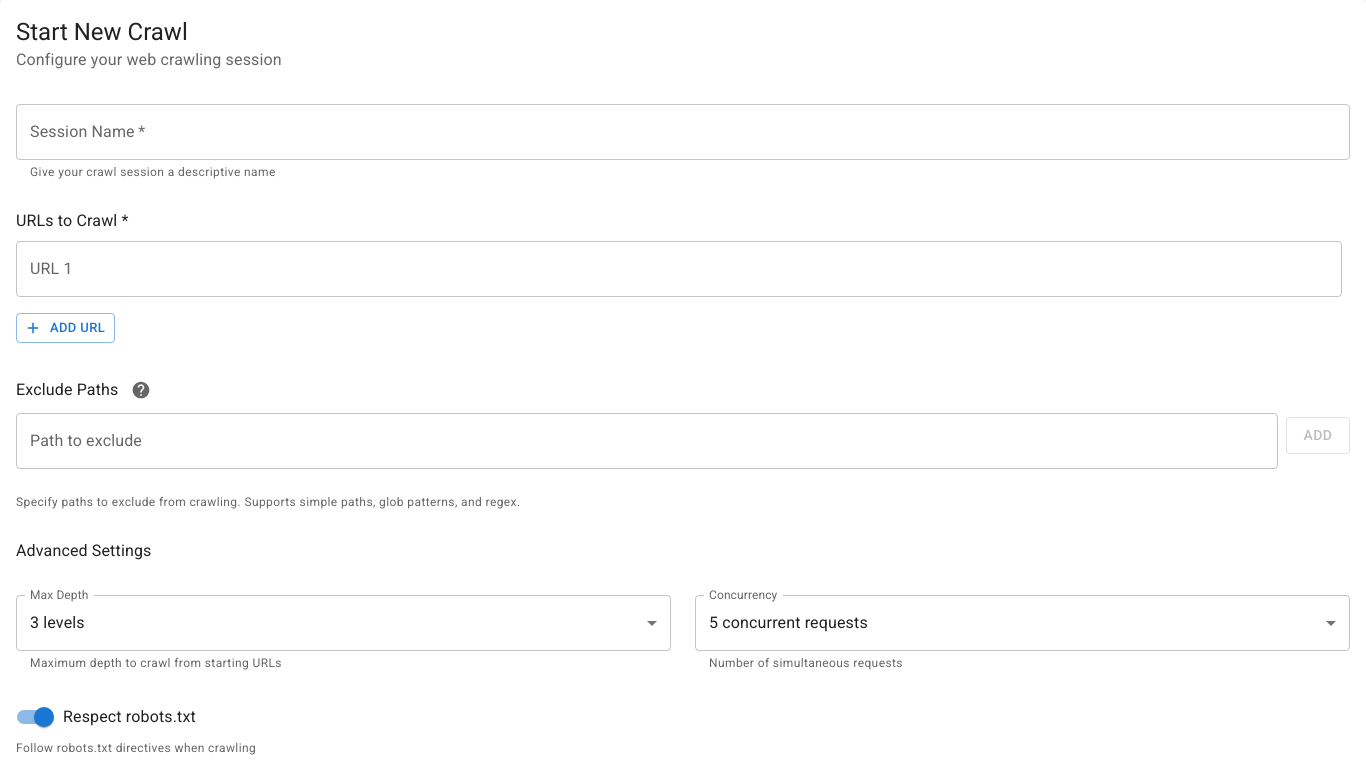
Test: CrawlForm - Path Exclusion Features › Exclusion Path Management › should add multiple exclusion paths
# Add first path
Type "/admin" into the field labelled "Path to exclude" at (647, 441), box [16,413,1278,469]
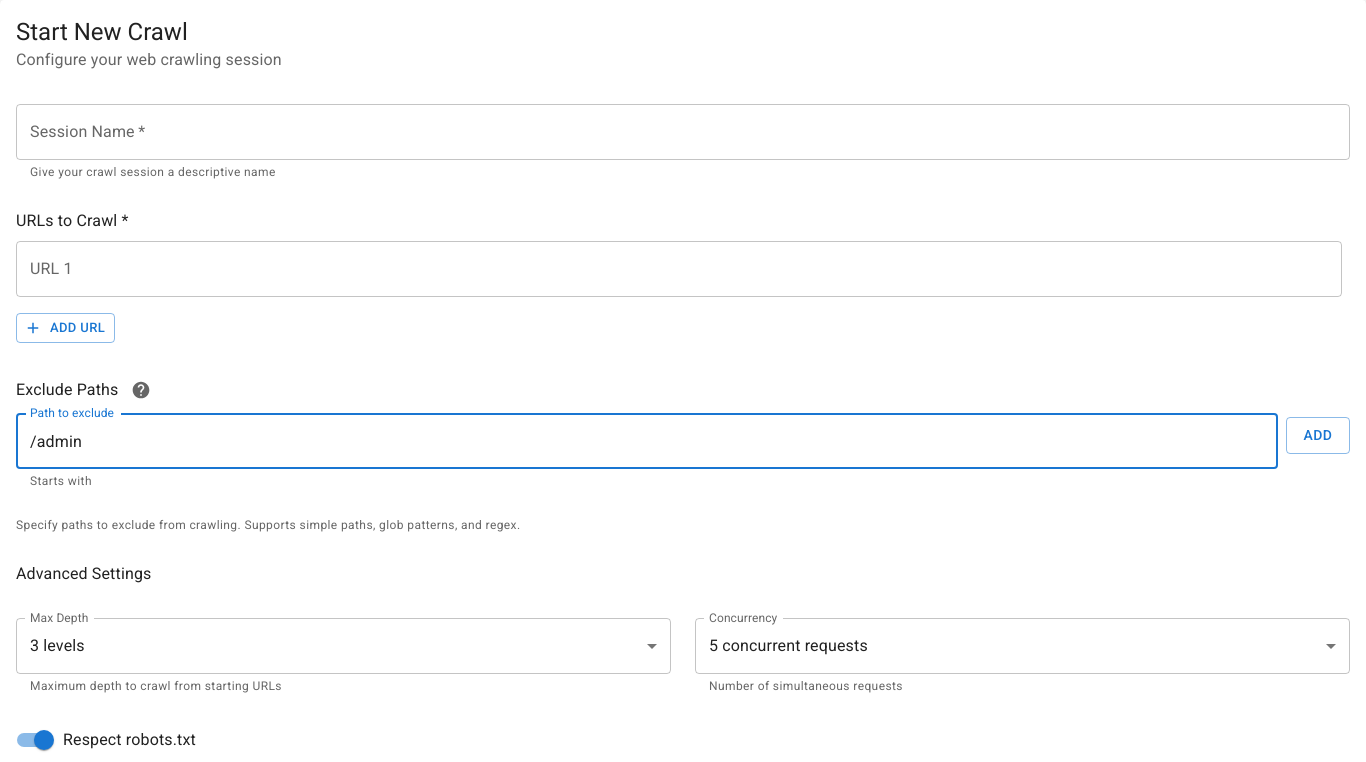
Click the button "Add" at (1318, 436), box [1286,417,1350,454]
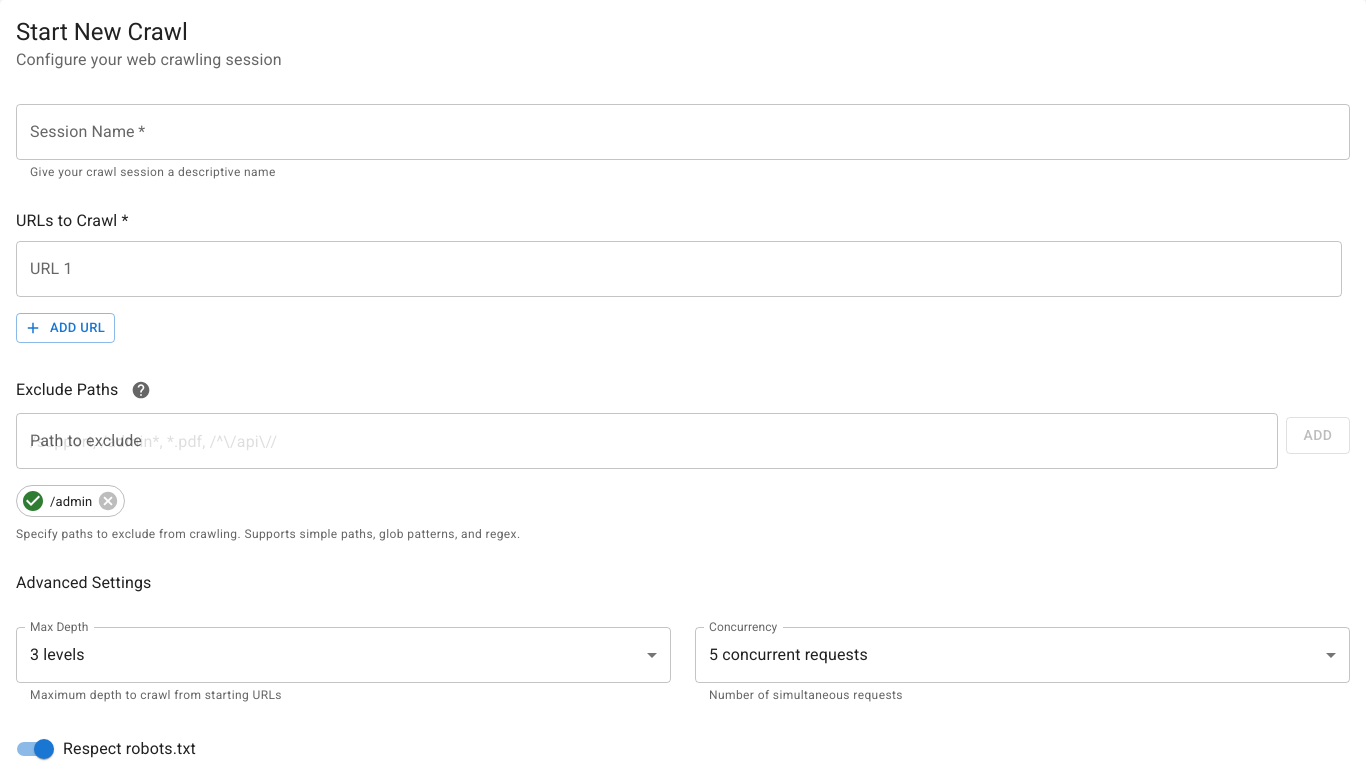
# Add second path
Type "*.pdf" into the field labelled "Path to exclude" at (647, 441), box [16,413,1278,469]
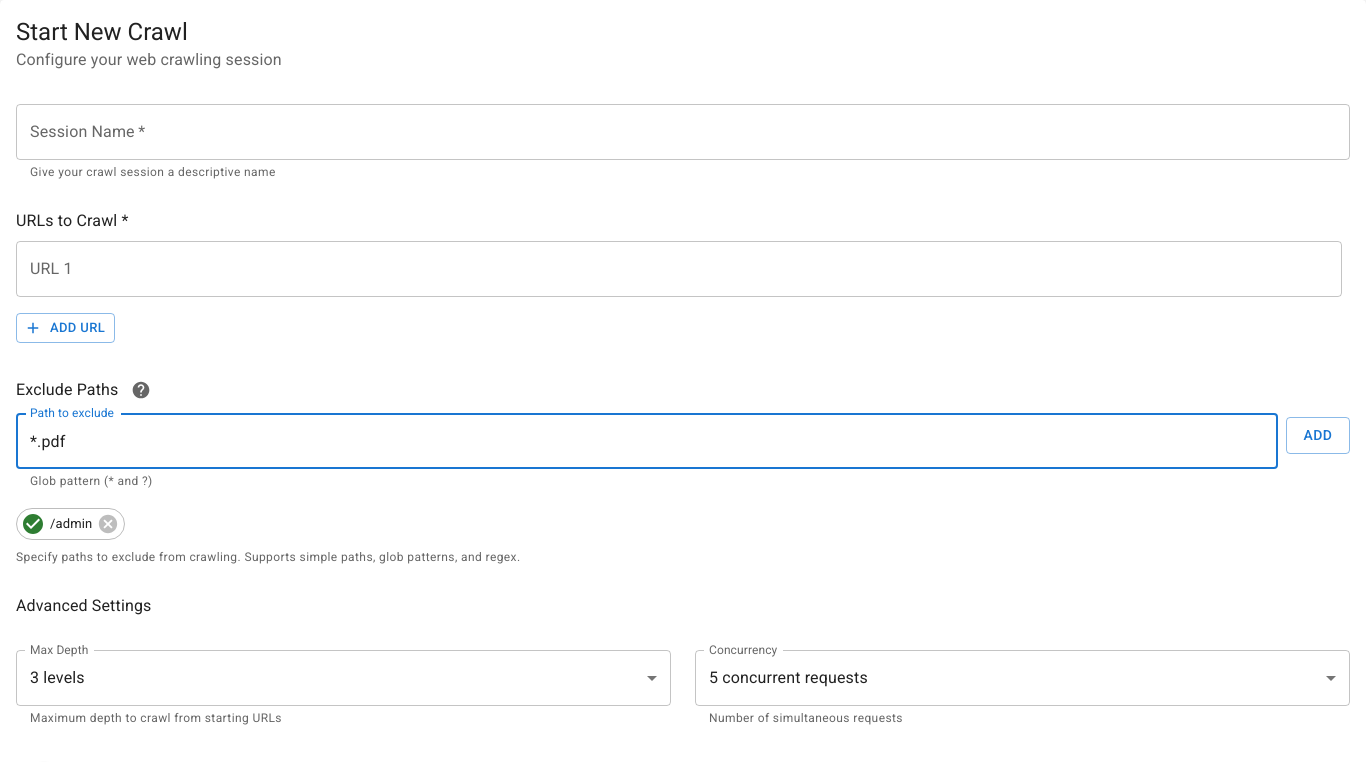
Click the button "Add" at (1318, 436), box [1286,417,1350,454]
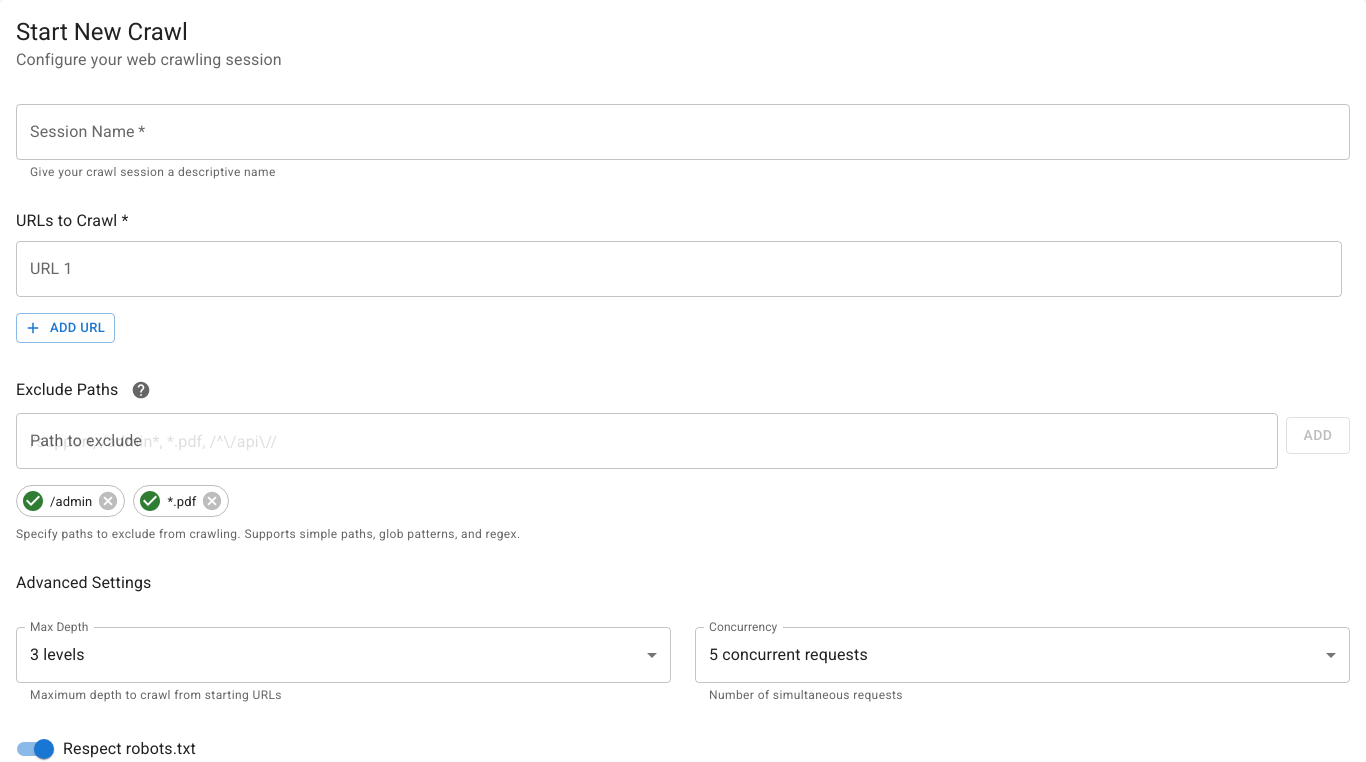
# Add third path
Type "/^/api//" into the field labelled "Path to exclude" at (647, 441), box [16,413,1278,469]
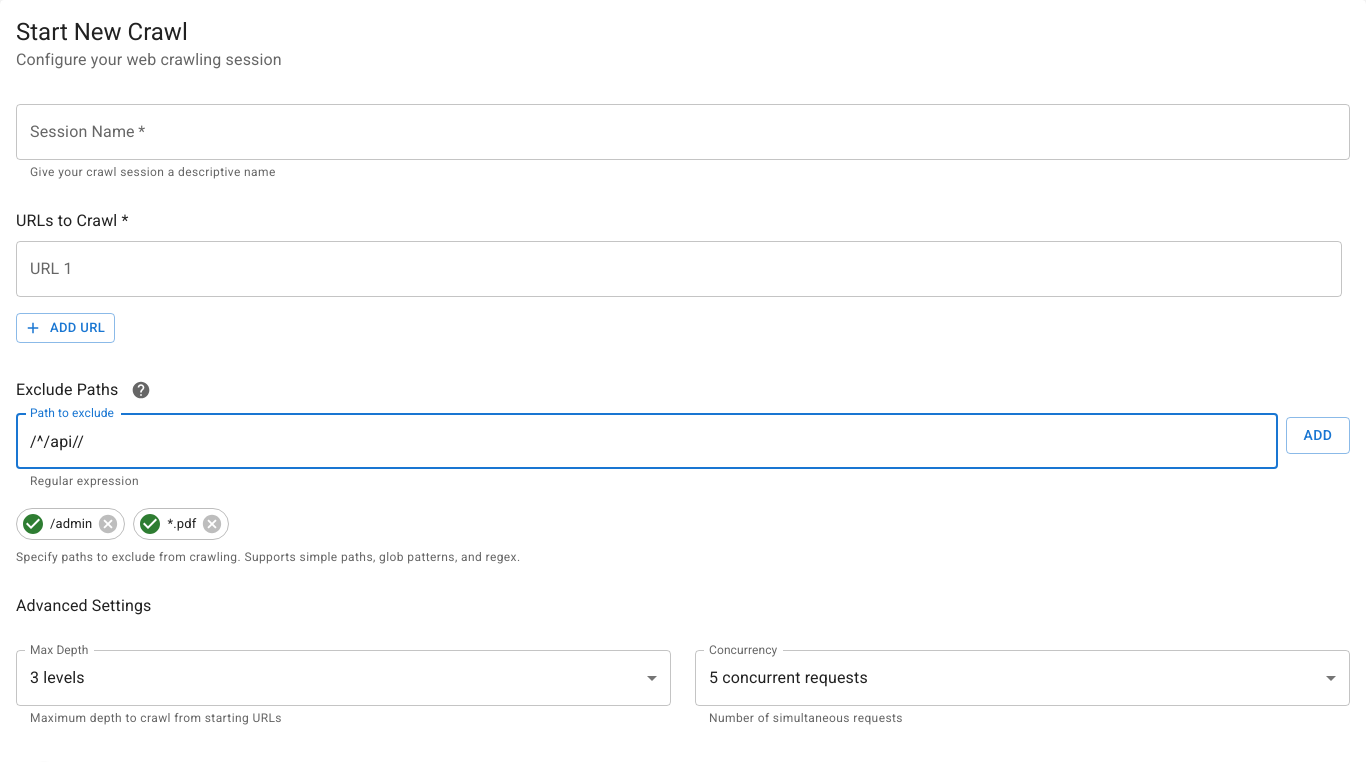
Click the button "Add" at (1318, 436), box [1286,417,1350,454]
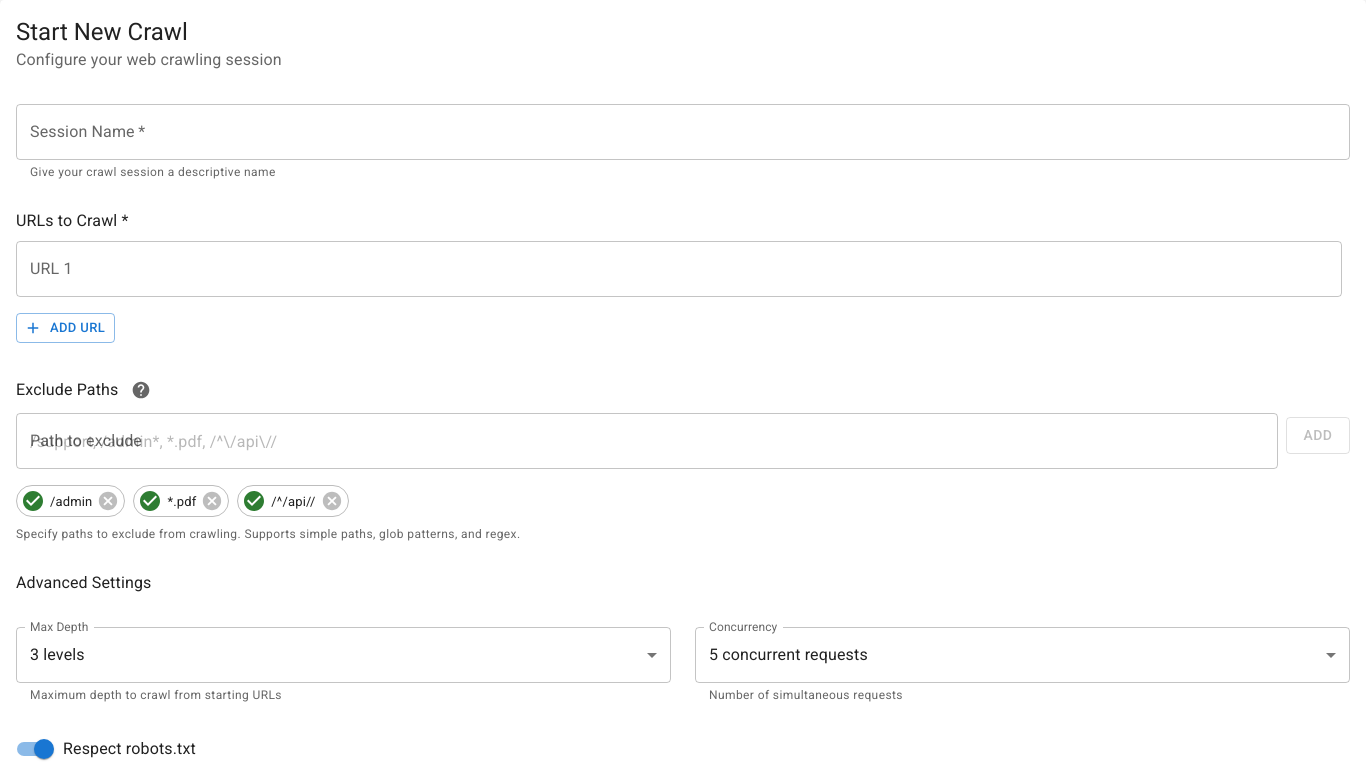
Check: the text "/admin" is shown, box [50,494,92,508]
Check: the text "*.pdf" is shown, box [167,494,196,508]
Check: the text "/^/api//" is shown, box [271,494,316,508]
